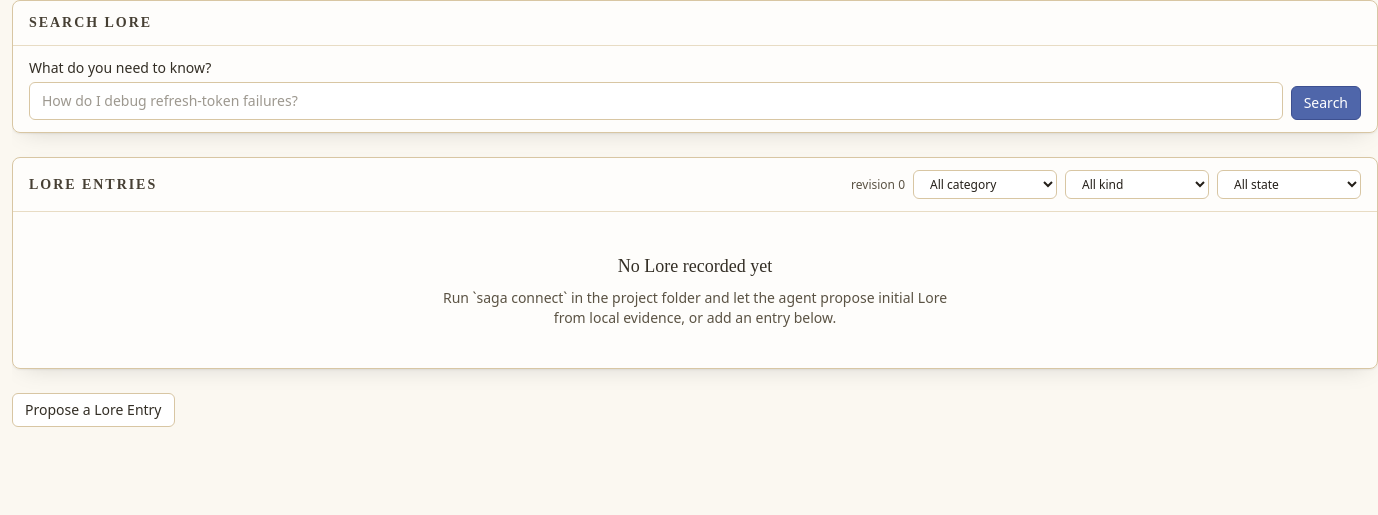
Scenario: Lore page › renders search results with the channels that matched
Check: the text "No Lore recorded yet" is shown, box [618, 256, 772, 276]
Type "start the api" into the field labelled "What do you need to know?" at [656, 101], box [29, 82, 1283, 120]
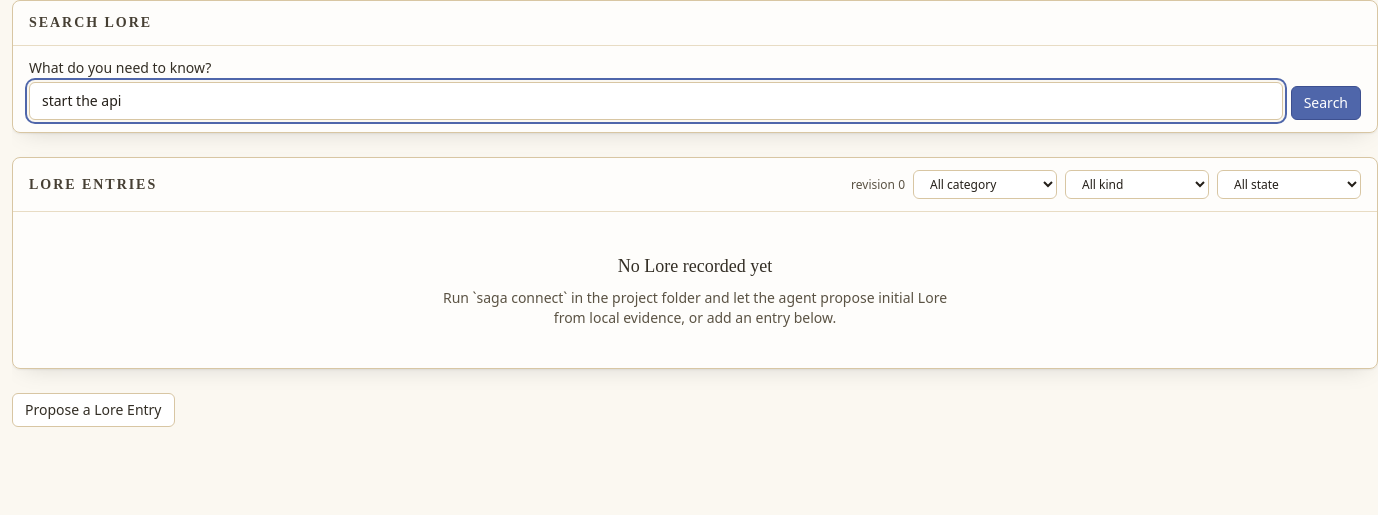
Click the button "Search" at [1326, 103], box [1291, 86, 1361, 120]
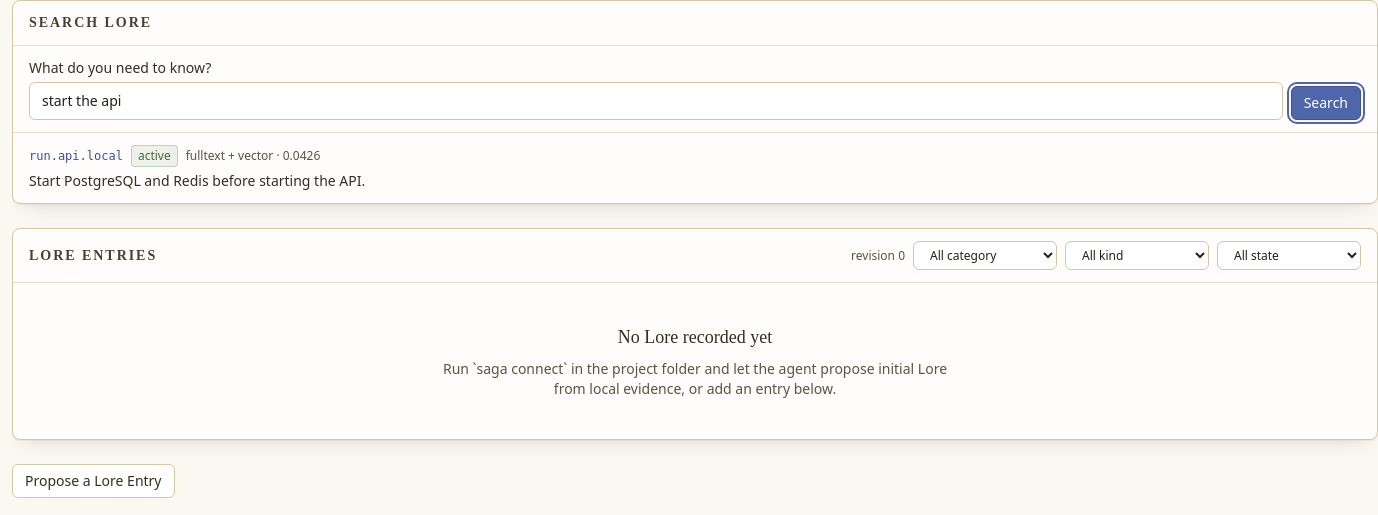
Check: the text "fulltext + vector · 0.0426" is shown, box [186, 148, 320, 164]
